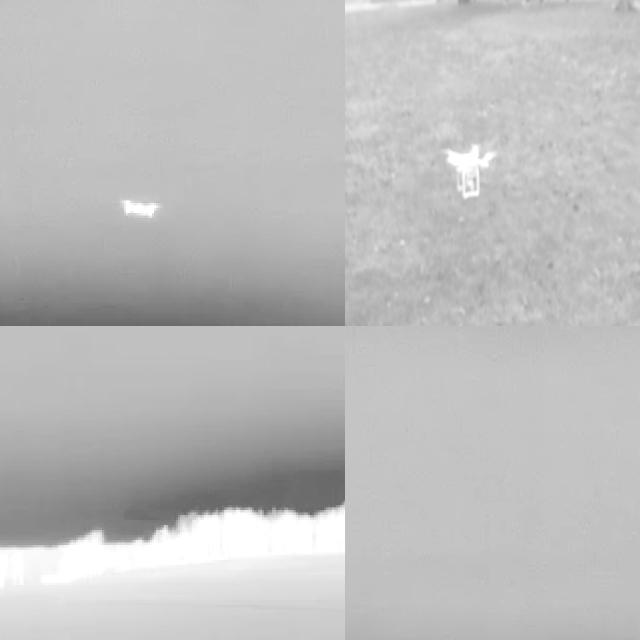1: (109, 193, 169, 228)
drone: (442, 141, 495, 201)
